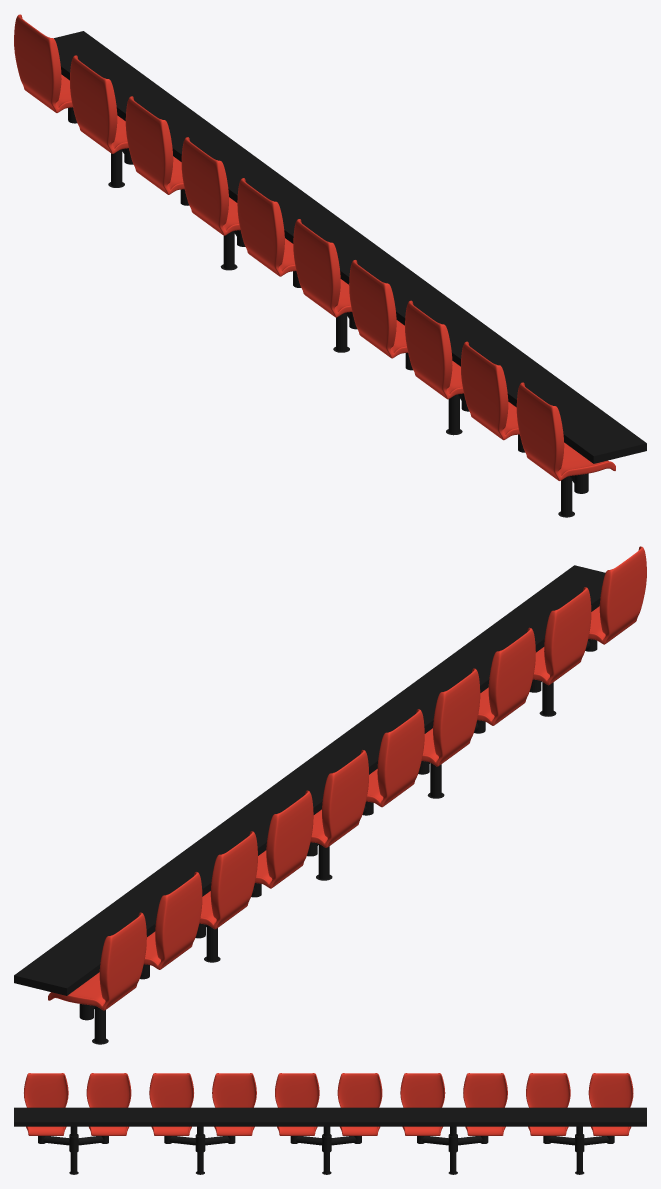
Rendered from audi_row.fbx.
3 views of the same model, one above another, from view 1: azimuth 30°, elevation 25°; view 2: azimuth 150°, elevation 25°; view 3: azimuth 270°, elevation 25° (orthographic). The views are drawn at different scales.
Parts seen in each view (by area): view 1: Cube, Cube.001, Cylinder, Cylinder.001; view 2: Cube, Cube.001, Cylinder, Cylinder.001; view 3: Cube, Cube.001, Cylinder, Cylinder.001.
Boxes of the visible parts, <box> form: Cube: <box>14,14,615,480</box>; Cube.001: <box>54,31,646,463</box>; Cylinder: <box>75,116,574,517</box>; Cylinder.001: <box>68,107,588,493</box>; Cube: <box>48,546,646,1010</box>; Cube.001: <box>14,565,605,995</box>; Cylinder: <box>92,641,590,1044</box>; Cylinder.001: <box>79,639,597,1020</box>; Cube: <box>24,1073,633,1135</box>; Cube.001: <box>14,1107,646,1126</box>; Cylinder: <box>43,1126,608,1174</box>; Cylinder.001: <box>38,1136,614,1143</box>.
Bounding box in the file's own units: 312 × 541 × 3664.
